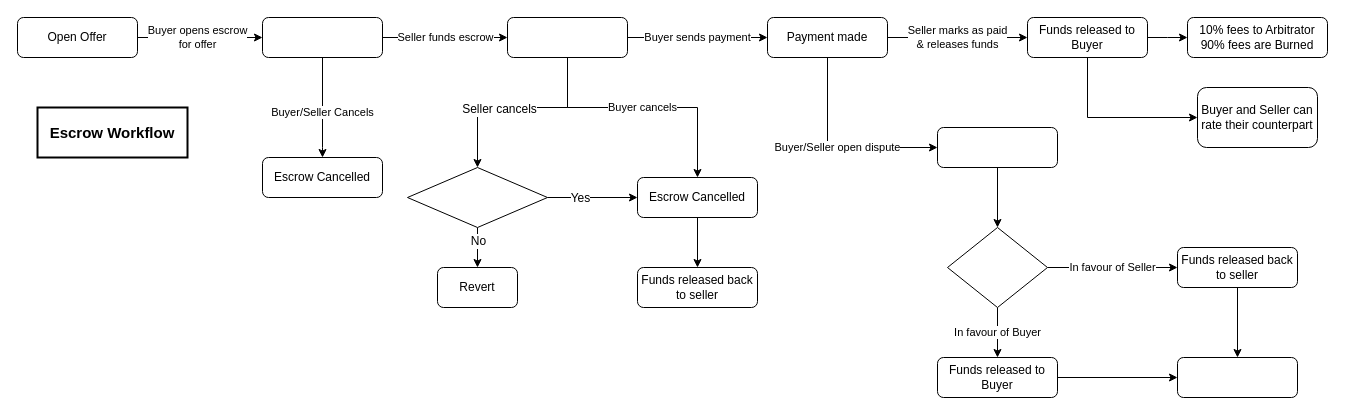
Image size: 1345x415. Some labels were removed from this diagram. The shapes that lost their labels are listed below. From the top down, each one's centre as x and y in pixels, then its label:
(x=322, y=37): Offer Taken
(x=567, y=37): Escrow Funded
(x=997, y=147): Dispute Opened
(x=477, y=197): Escrow expired?
(x=997, y=267): Arbitrator Decision?
(x=1237, y=377): Arbitrator gets 100% of fees
